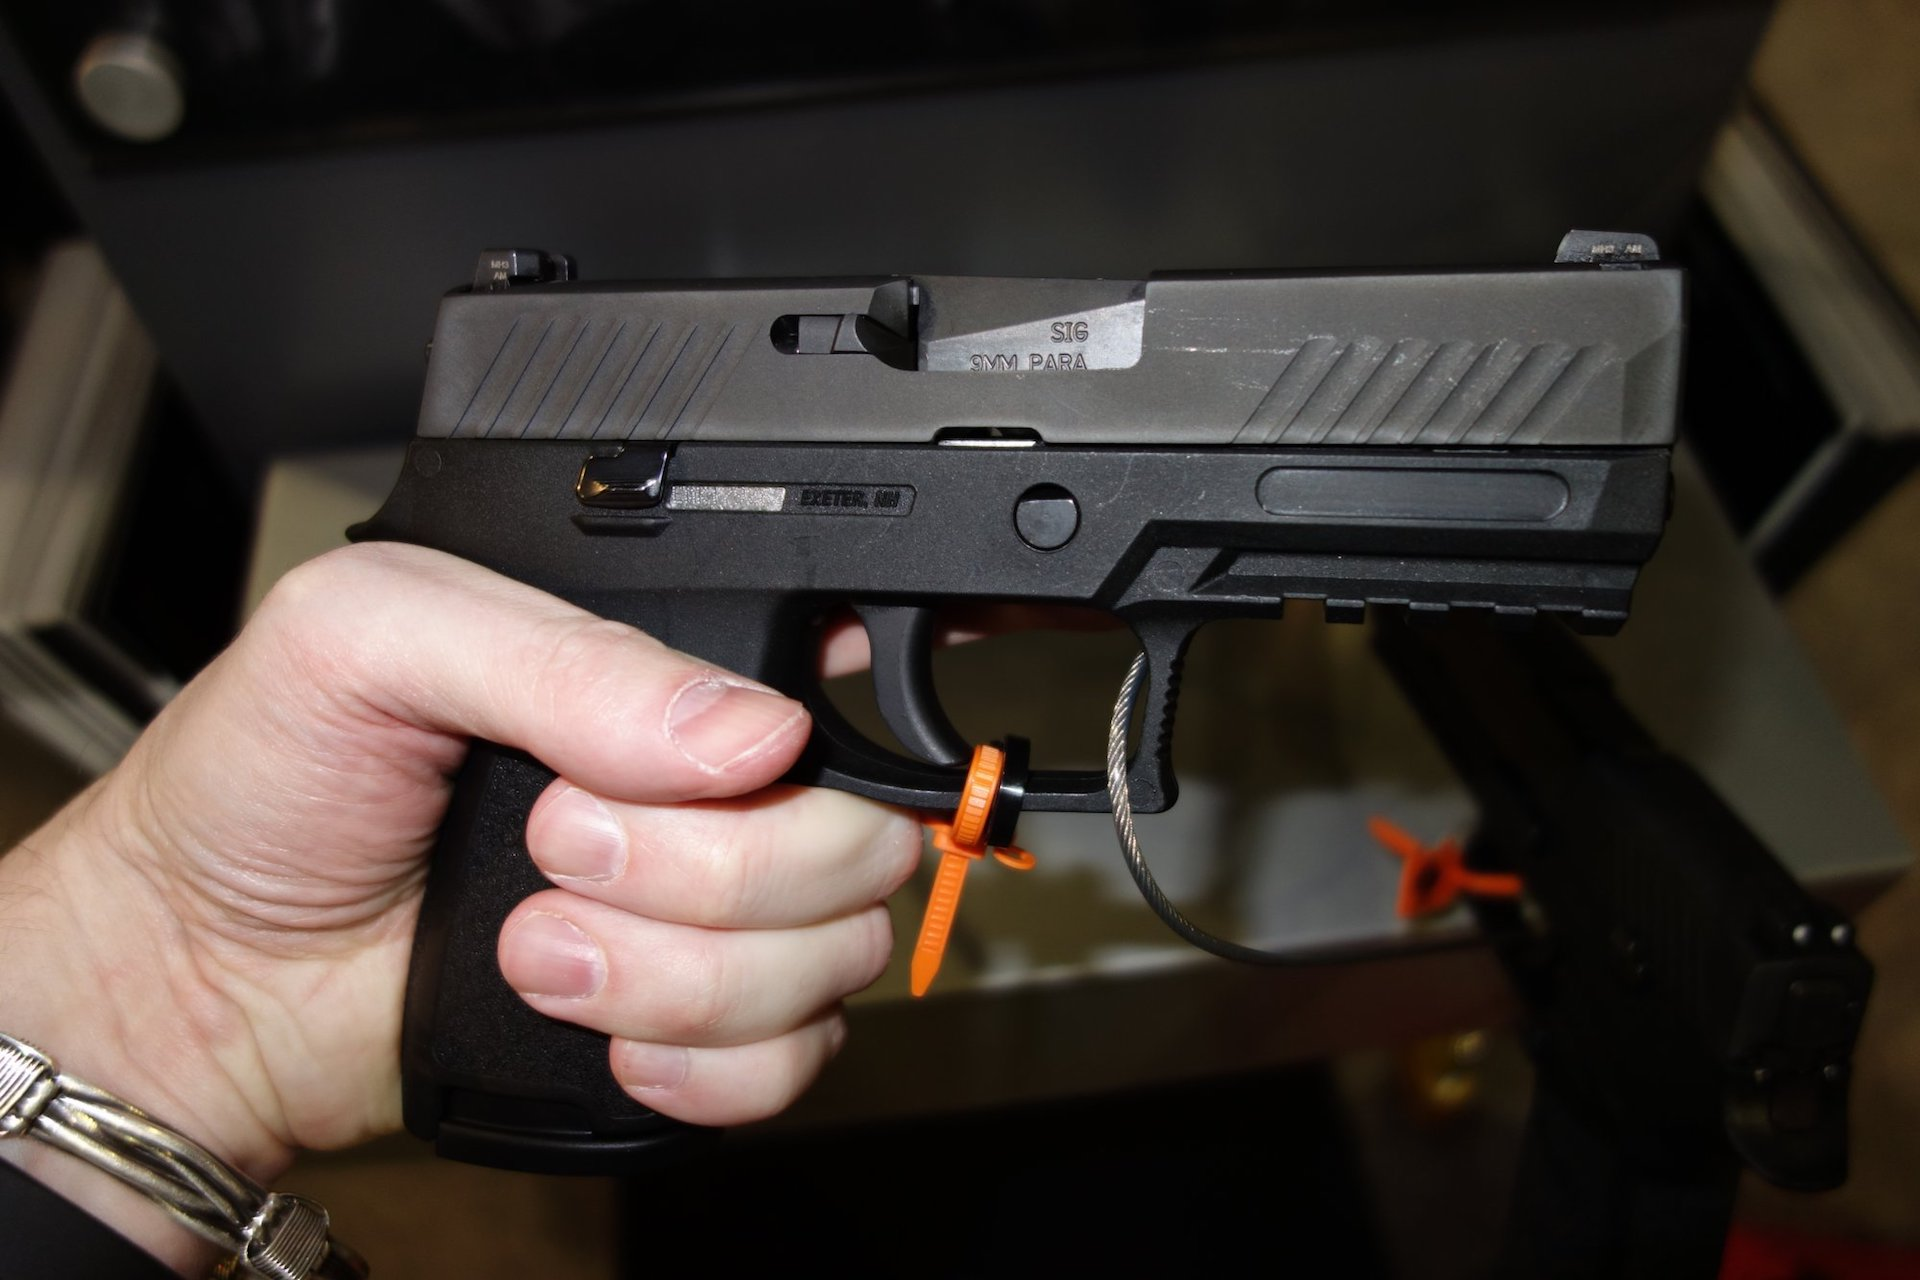pistol: (344, 224, 1694, 1174)
